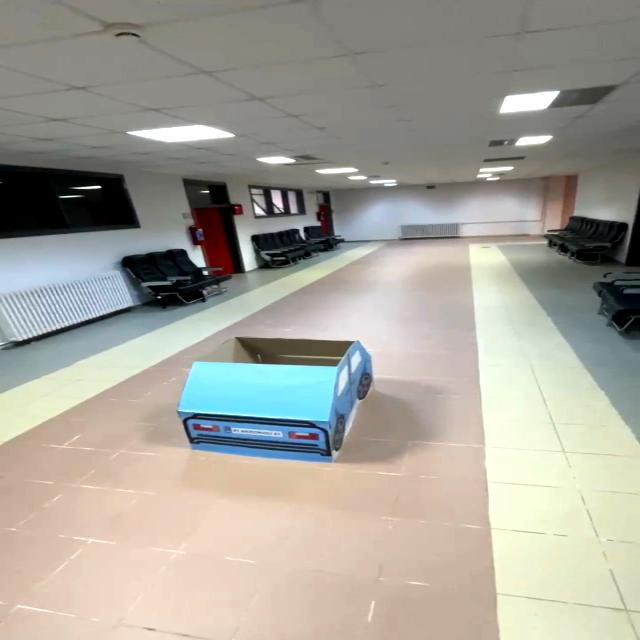blue_car: (153, 330, 400, 478)
